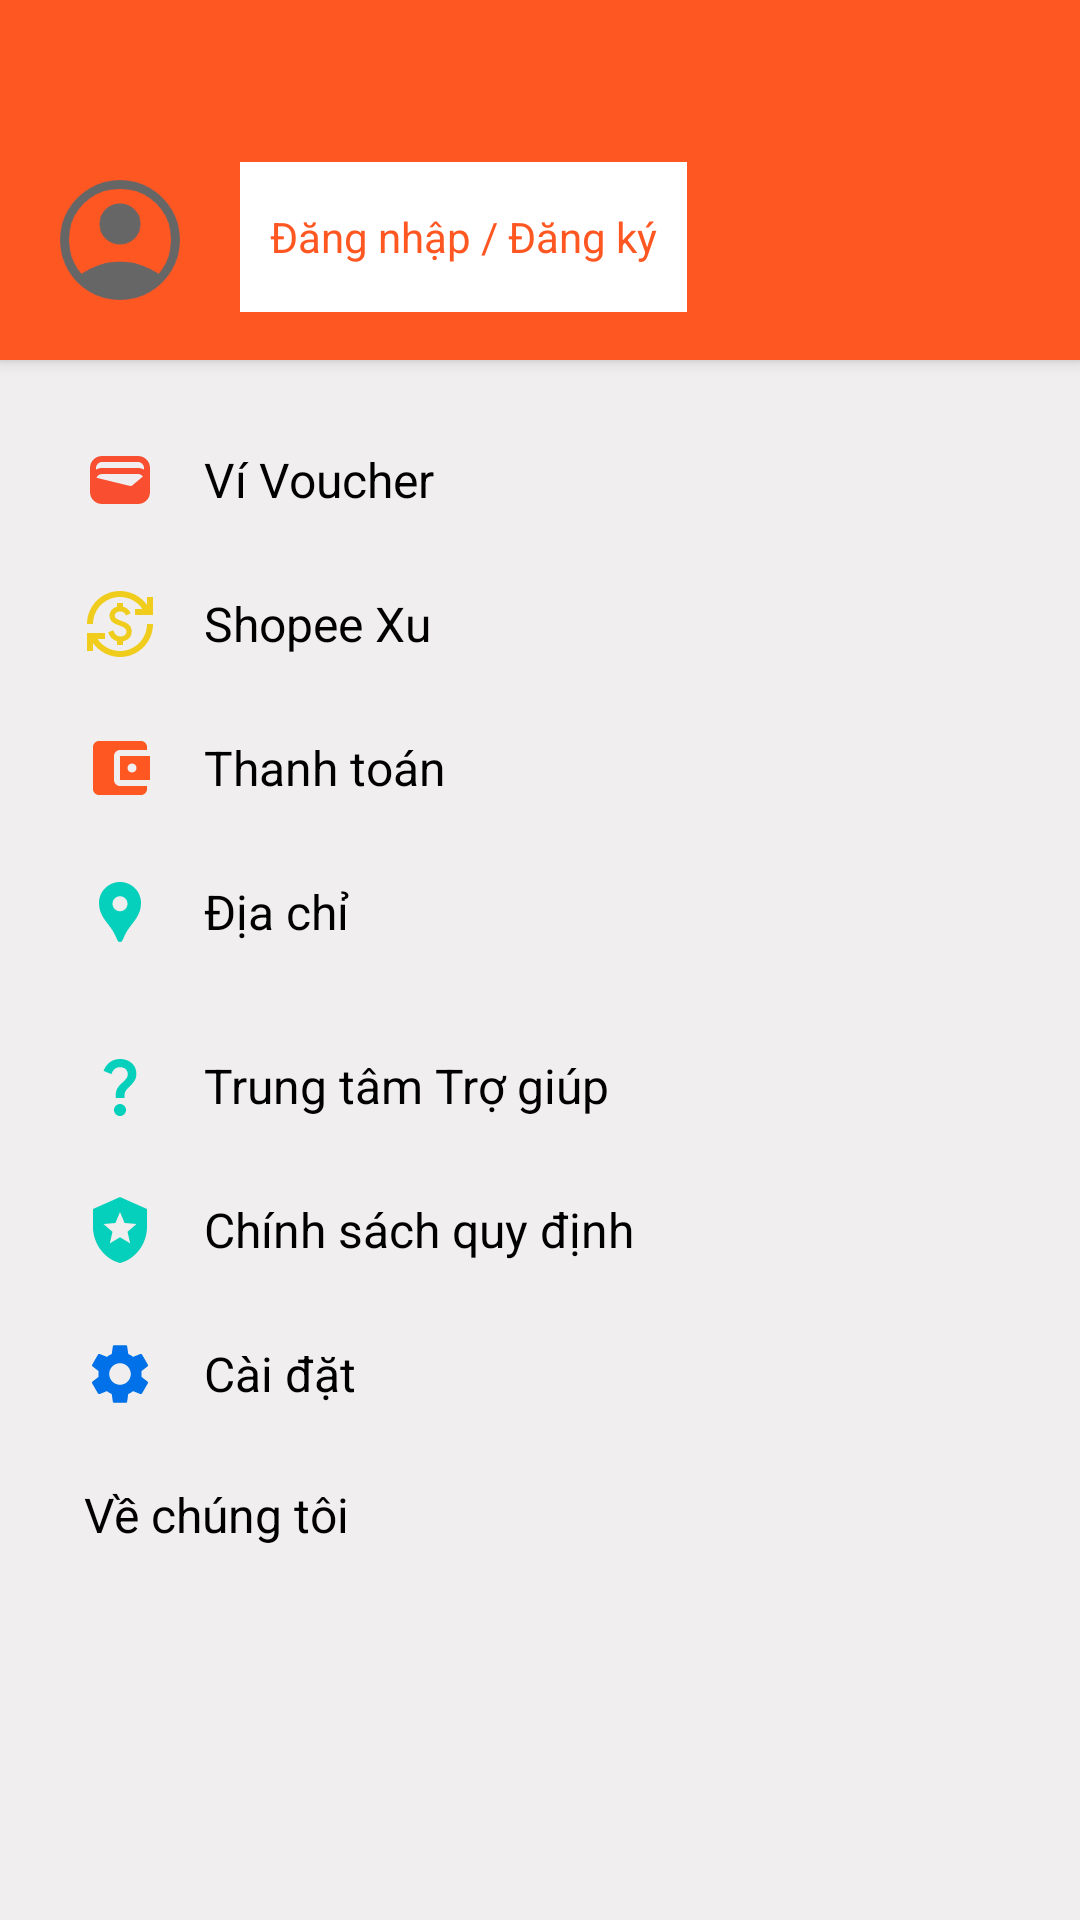

Where icons sit on this 1080px x 1920px app screen, as {"x1": x1, "y1": y1, "x2": x2, "y2": y2}:
customer: {"x1": 60, "y1": 180, "x2": 180, "y2": 300}
